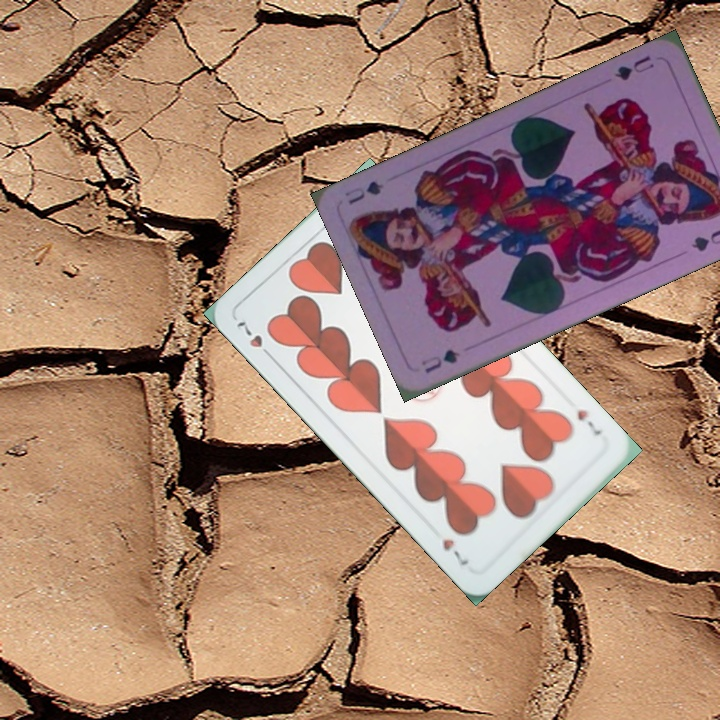GU: (610, 52, 657, 83), (417, 345, 463, 376)
H7: (232, 317, 277, 363), (573, 405, 604, 439)
